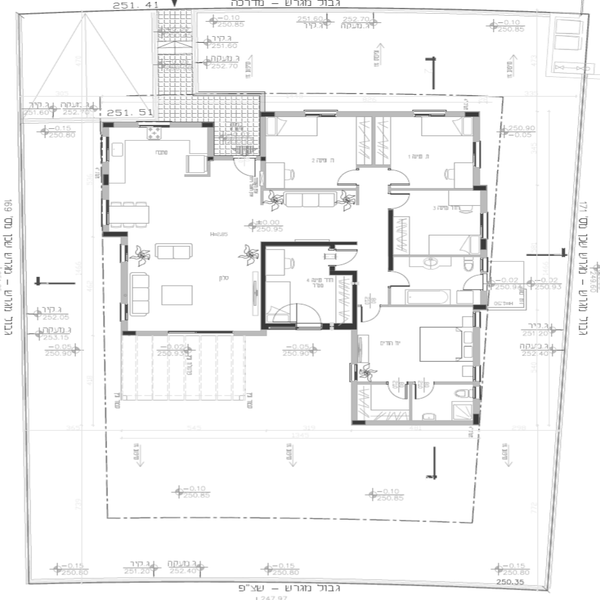door: (293, 304, 324, 337), (233, 156, 265, 179), (356, 304, 386, 327), (412, 377, 437, 404), (336, 164, 364, 187), (385, 192, 417, 212), (379, 378, 403, 403), (330, 247, 357, 268), (458, 273, 483, 295), (385, 271, 410, 290), (389, 168, 413, 186)
room: (257, 109, 488, 194), (345, 300, 486, 430), (108, 232, 260, 339), (97, 124, 217, 234), (221, 154, 363, 243), (388, 186, 486, 309), (257, 238, 358, 332)
wall: (361, 417, 474, 431), (360, 416, 477, 428), (382, 214, 403, 275), (272, 241, 362, 254), (257, 241, 269, 334), (348, 274, 359, 334), (341, 110, 412, 119), (117, 264, 130, 308), (351, 335, 365, 366), (257, 118, 267, 158), (232, 324, 261, 337), (115, 117, 137, 133), (204, 129, 218, 154), (169, 120, 207, 129), (135, 329, 166, 339), (207, 127, 216, 157), (471, 330, 478, 368), (100, 158, 111, 175), (274, 109, 306, 114), (351, 382, 355, 420), (351, 335, 355, 368), (101, 189, 110, 202)
